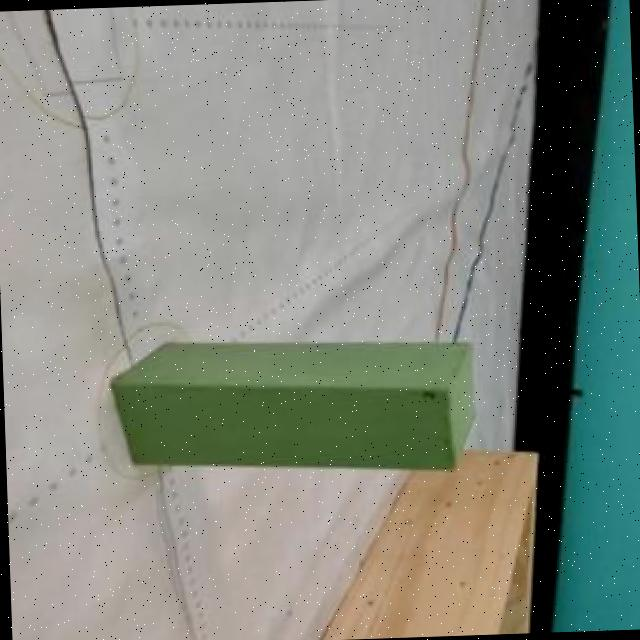greenbox: (102, 330, 484, 485)
